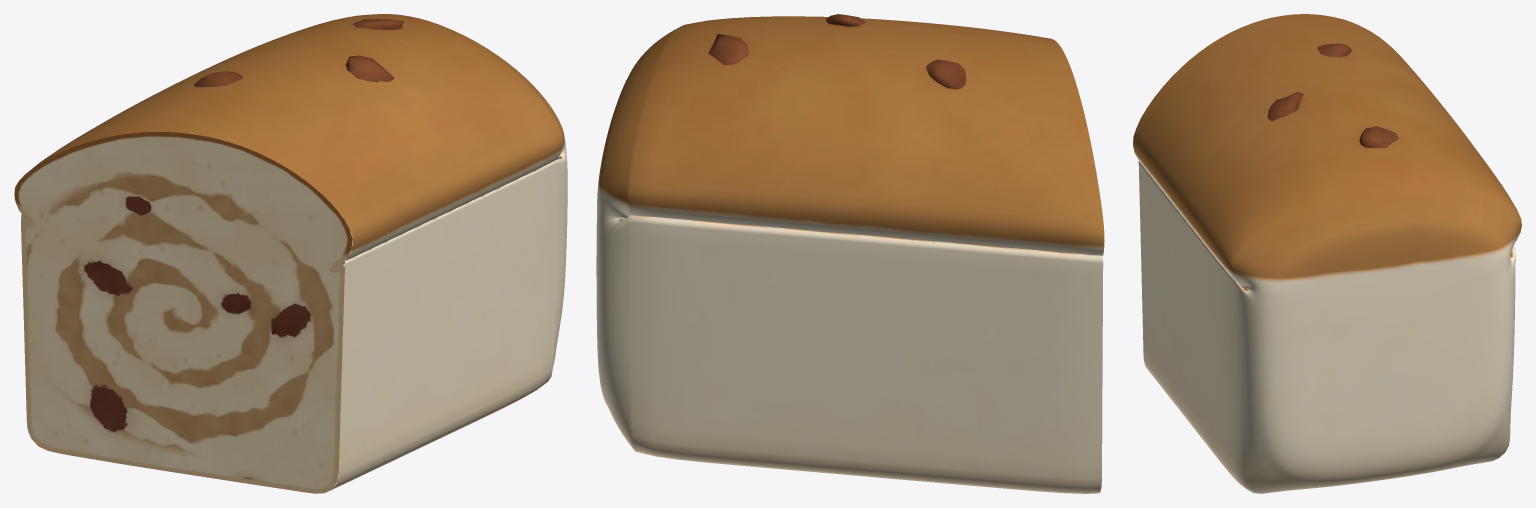
Rendered from loaf--raisin-flesh.glb.
3 renders of one model, left to right at view 1: azimuth 30°, elevation 25°; view 2: azimuth 150°, elevation 25°; view 3: azimuth 270°, elevation 25°, orthographic. The views are drawn at different scales.
Visible parts, largest first — view 1: loaf_raisin-flesh; view 2: loaf_raisin-flesh; view 3: loaf_raisin-flesh.
Part boxes in pixels (x1,y1,x2,y2): loaf_raisin-flesh: [14, 14, 567, 493]; loaf_raisin-flesh: [596, 14, 1104, 493]; loaf_raisin-flesh: [1133, 14, 1521, 493].
Size of the model in its own units: 1.04 by 0.7288 by 0.7774.
Materials: 1 (1 with a texture image).
